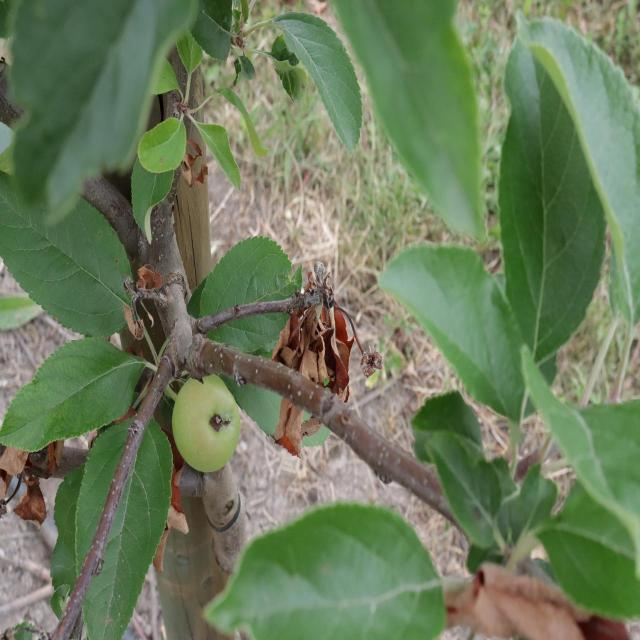-FireBlight-: (459, 558, 640, 640), (278, 280, 354, 444), (0, 436, 62, 518)
